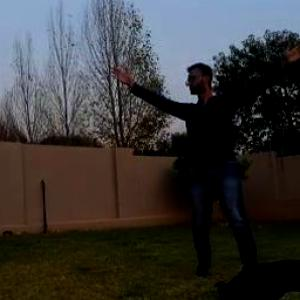takeoff: (102, 37, 299, 281)
